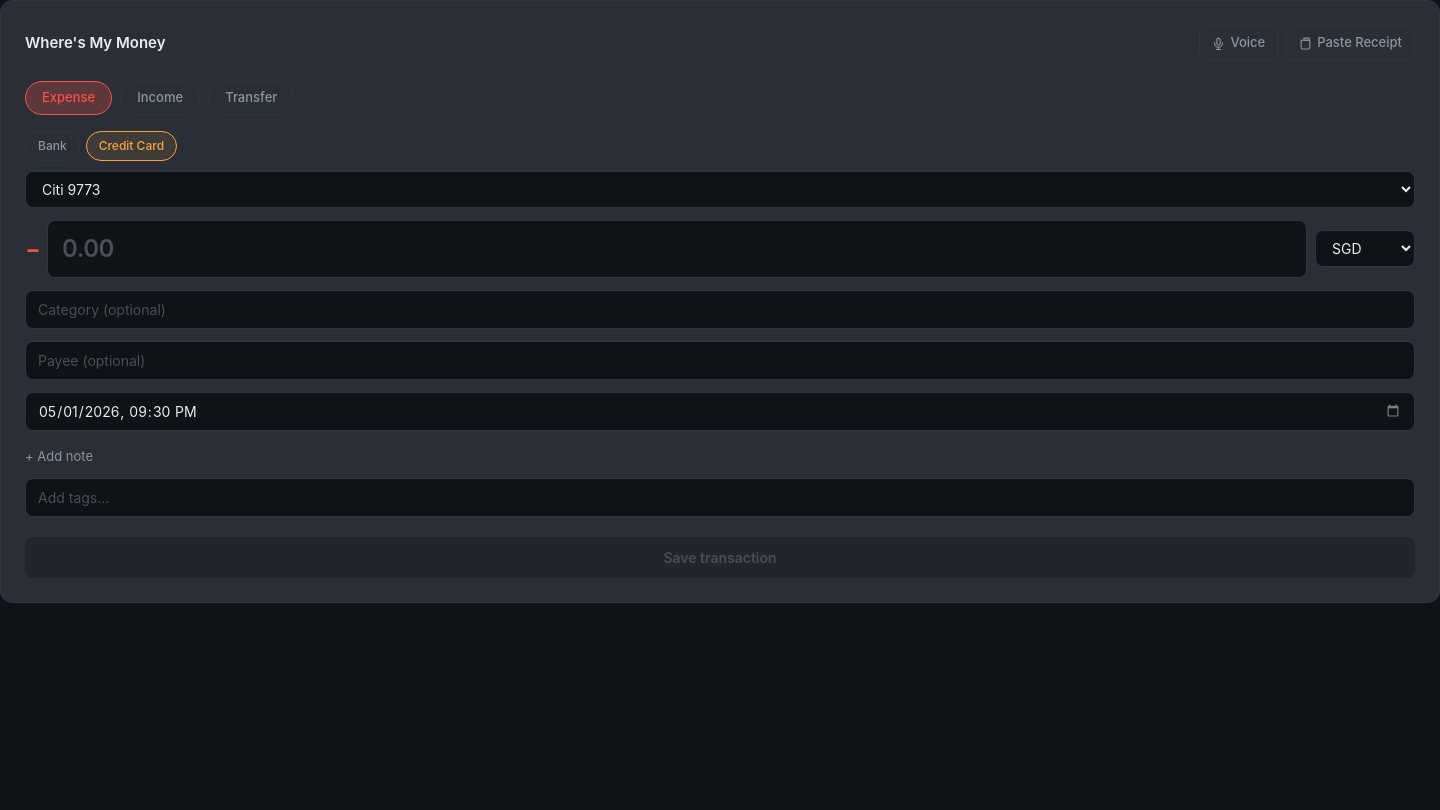
Test: BUG-028: searchable picker respects parent/child hierarchy › parents with children are NOT shown as standalone selectable options
This screenshot has width=1440, height=810.
Step 1. Focus the field with test id "category-search-input" → (720, 309), box [25, 290, 1415, 328]
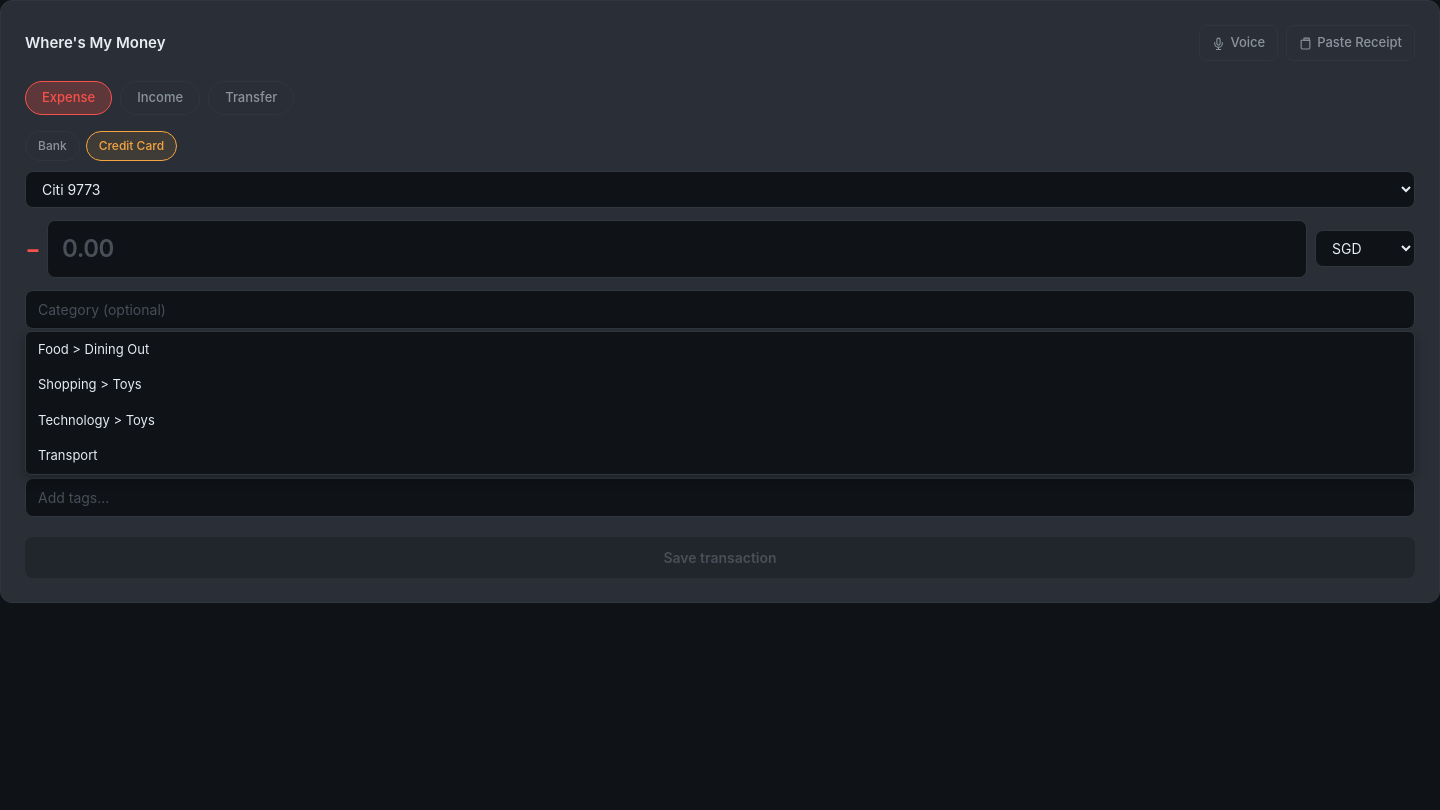
Expected: the element with test id "category-dropdown" is shown, [25, 330, 1415, 474]
